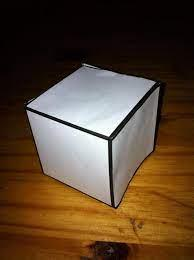cube: (26, 64, 160, 210)
